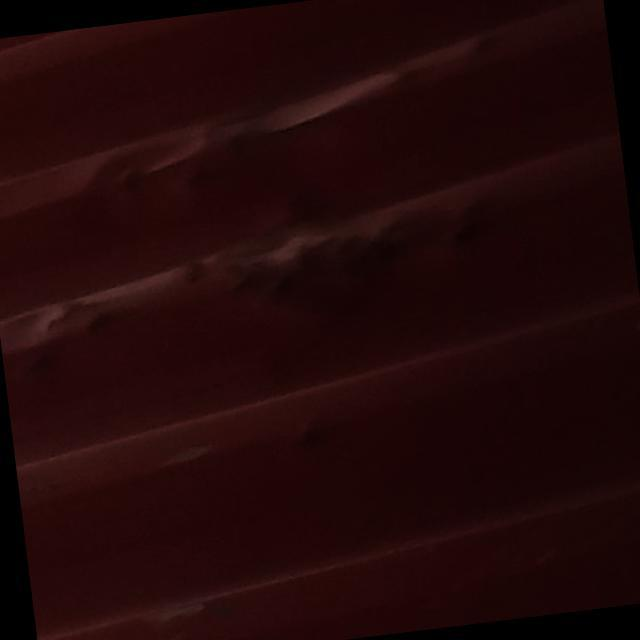dent: (1, 1, 540, 493)
